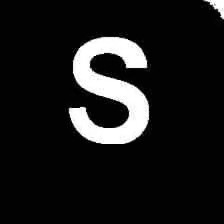LTR_S: (68, 30, 153, 149)
